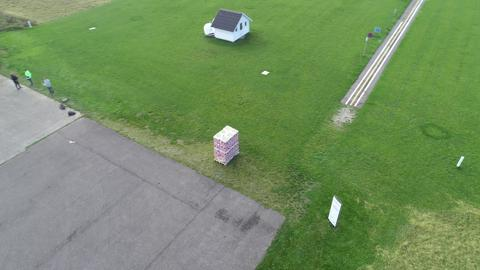RockwoolPallet: (212, 125, 240, 167)
